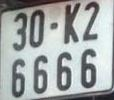-: (50, 23, 59, 31)
0: (29, 10, 45, 49)
2: (81, 0, 99, 43)
3: (12, 12, 28, 52)
6: (80, 48, 98, 88), (55, 52, 73, 91), (32, 56, 49, 93), (10, 58, 26, 96)
K: (63, 3, 81, 44)
